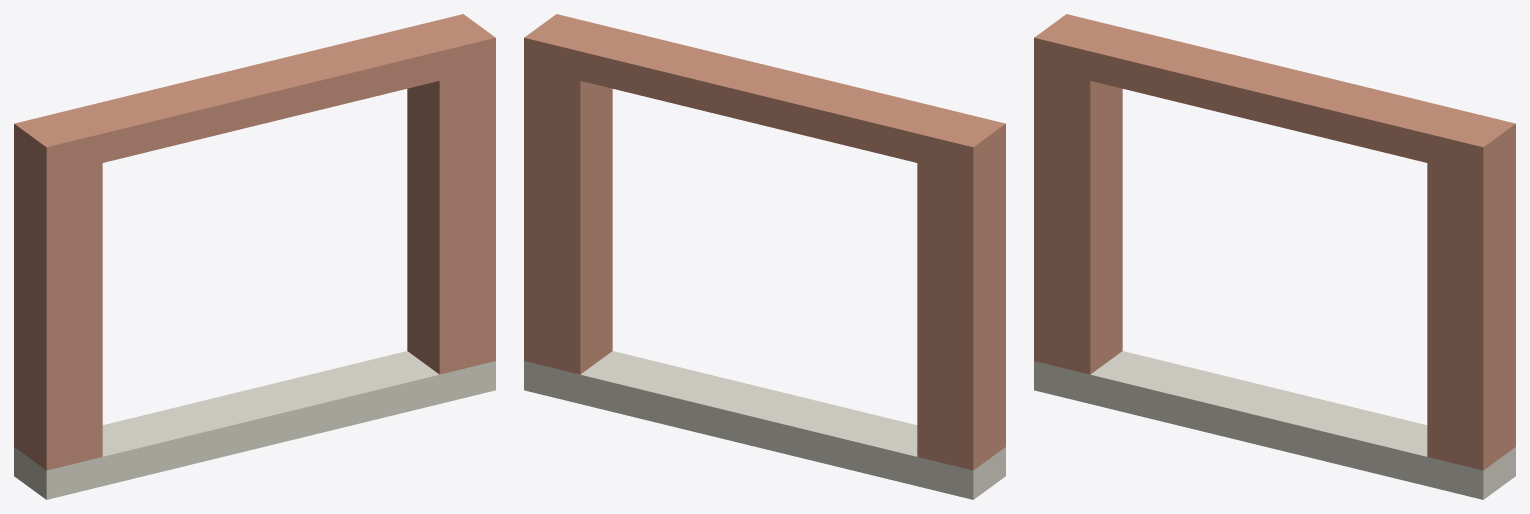
File: voxel-city-districts-garage-opening-bay-21d93e44__24806.glb
3 views of the same model, side by side, from view 1: azimuth 30°, elevation 25°; view 2: azimuth 150°, elevation 25°; view 3: azimuth 330°, elevation 25° (orthographic).
Visible parts, largest first — view 1: garage-opening-bay-brick, garage-opening-bay-concrete; view 2: garage-opening-bay-brick, garage-opening-bay-concrete; view 3: garage-opening-bay-brick, garage-opening-bay-concrete.
Boxes of the visible parts, x1,y1,x2,y2 form: garage-opening-bay-brick: (14, 14, 495, 470); garage-opening-bay-concrete: (14, 351, 495, 499); garage-opening-bay-brick: (524, 14, 1005, 470); garage-opening-bay-concrete: (524, 351, 1005, 499); garage-opening-bay-brick: (1034, 14, 1515, 470); garage-opening-bay-concrete: (1034, 351, 1515, 499).
Size of the model in its own units: 4 by 3 by 0.5.
